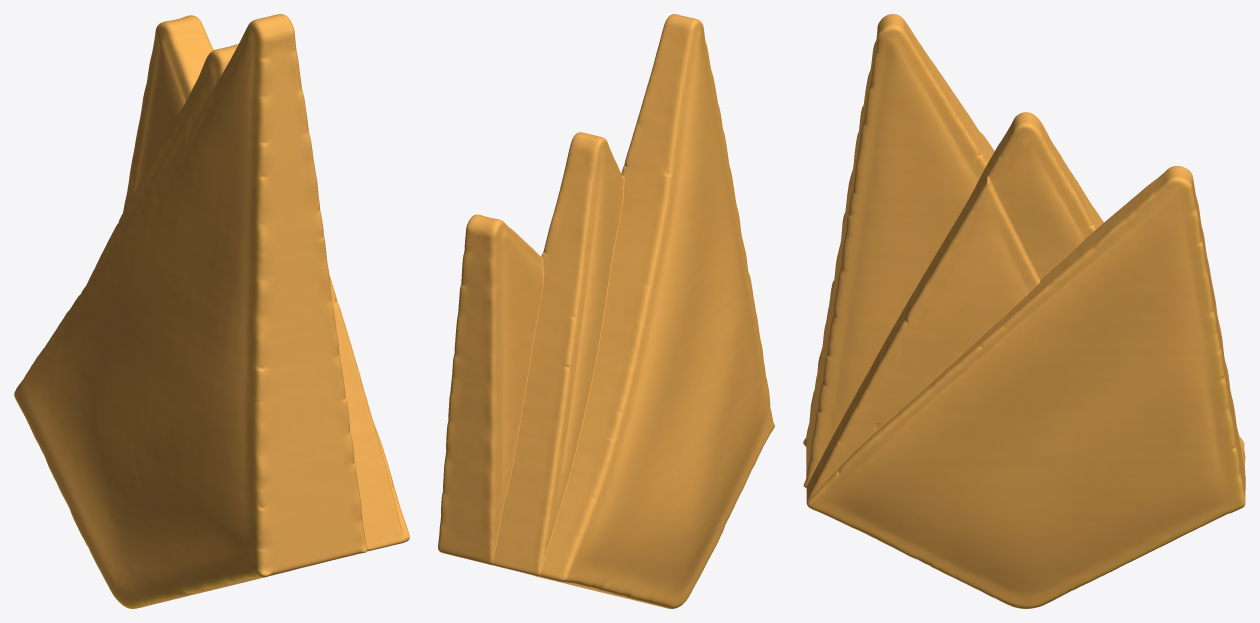
File: firebase.glb
3 views of the same model, side by side, from view 1: azimuth 30°, elevation 25°; view 2: azimuth 150°, elevation 25°; view 3: azimuth 270°, elevation 25° (orthographic). The views are drawn at different scales.
Visible parts, largest first — view 1: tripo_node_8d36a7dc-b6ae-4d3b-b8ab-b36e0af71853; view 2: tripo_node_8d36a7dc-b6ae-4d3b-b8ab-b36e0af71853; view 3: tripo_node_8d36a7dc-b6ae-4d3b-b8ab-b36e0af71853.
Part boxes in pixels (bbox=[...]): tripo_node_8d36a7dc-b6ae-4d3b-b8ab-b36e0af71853: bbox=[14, 14, 409, 608]; tripo_node_8d36a7dc-b6ae-4d3b-b8ab-b36e0af71853: bbox=[438, 14, 774, 608]; tripo_node_8d36a7dc-b6ae-4d3b-b8ab-b36e0af71853: bbox=[803, 14, 1245, 608].
Size of the model in its own units: 0.3155 by 1 by 0.7267.
Materials: 1 (1 with a texture image).
